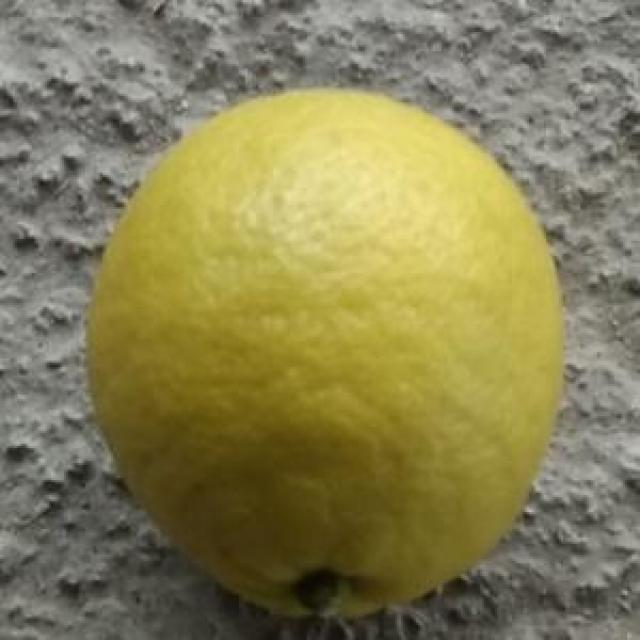lemon: (90, 80, 572, 620)
